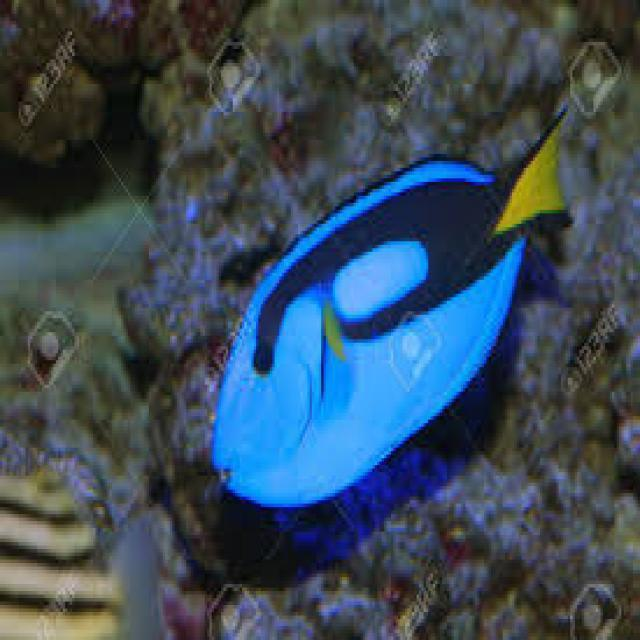TangFish: (206, 110, 584, 515)
